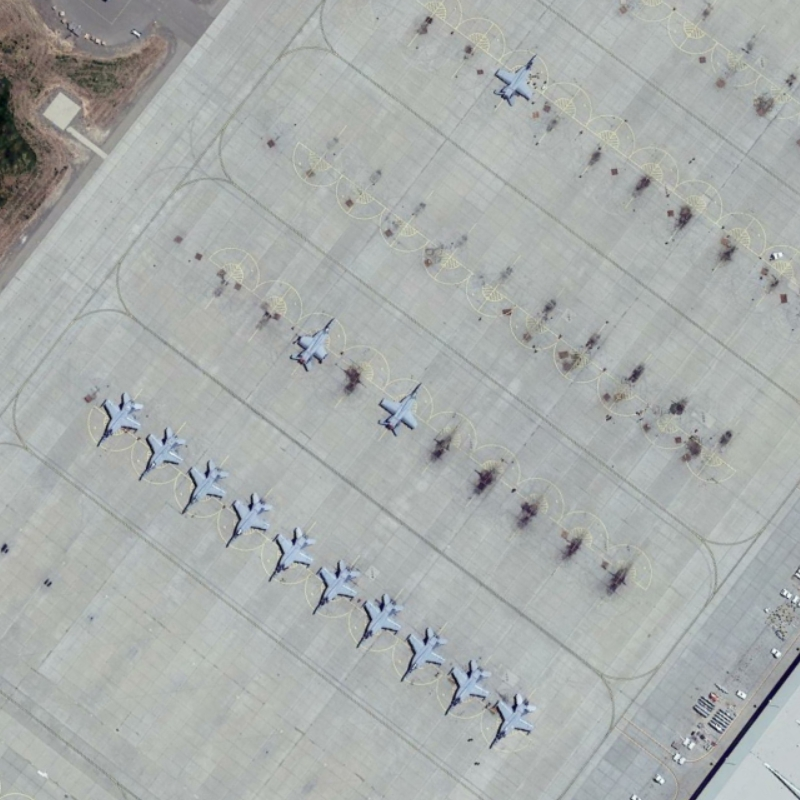A16: (309, 557, 363, 619), (376, 378, 427, 440), (135, 423, 188, 482), (178, 458, 230, 518), (442, 658, 493, 719), (287, 314, 338, 374), (266, 525, 317, 585), (489, 50, 540, 109), (93, 389, 143, 449), (398, 624, 448, 684), (354, 591, 405, 649), (224, 490, 273, 549), (487, 691, 537, 747)
